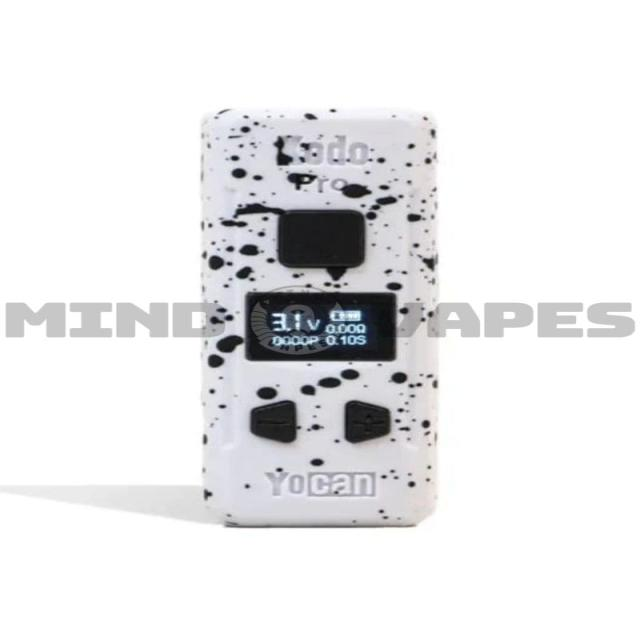Vapes: (196, 106, 442, 528)
